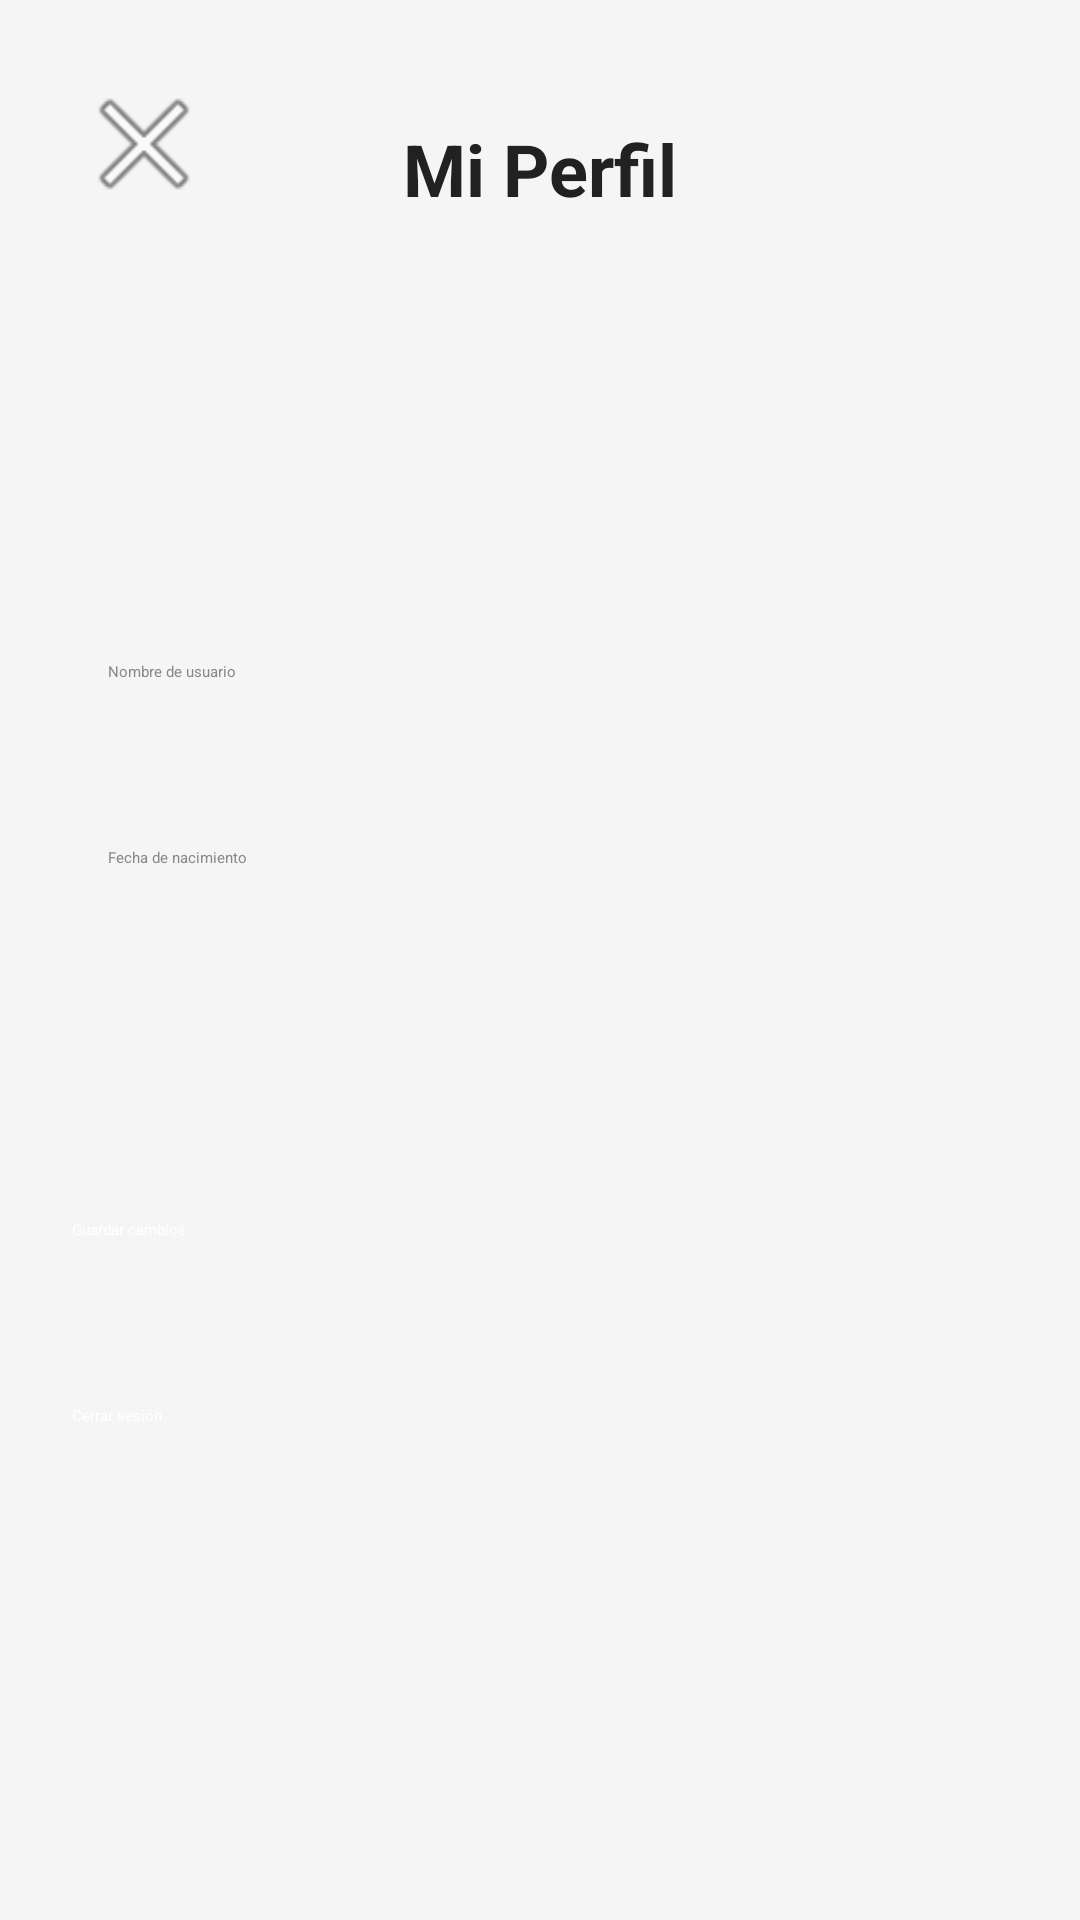

Icon click points for this 1080×1920 phone screenshot, format (x=x, y=y):
Volver: (x=144, y=144)
